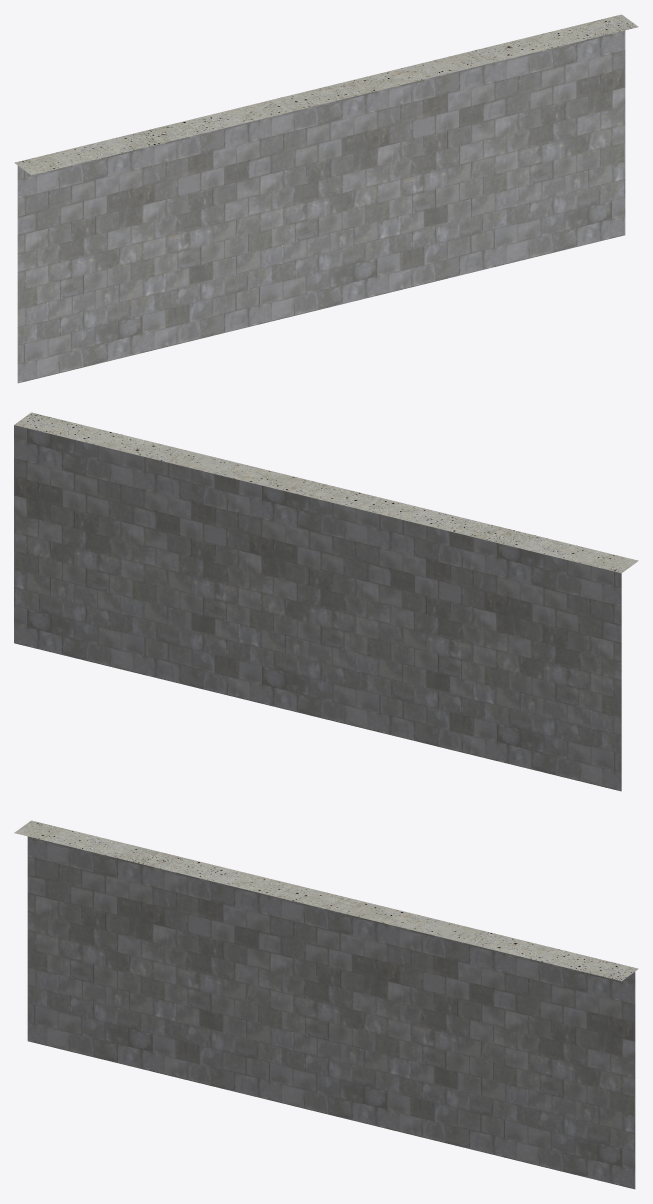
The model's file is MovingWall.glb.
3 renders of one model, top to bottom at view 1: azimuth 30°, elevation 25°; view 2: azimuth 150°, elevation 25°; view 3: azimuth 330°, elevation 25°, orthographic.
Visible parts, largest first — view 1: MovingWall; view 2: MovingWall; view 3: MovingWall.
Part boxes in pixels (x1,y1,x2,y2): MovingWall: [14, 14, 638, 383]; MovingWall: [14, 412, 638, 791]; MovingWall: [14, 820, 638, 1189].
Size of the model in its own units: 10.28 by 3.53 by 0.505.
Materials: 2 (2 with a texture image).
